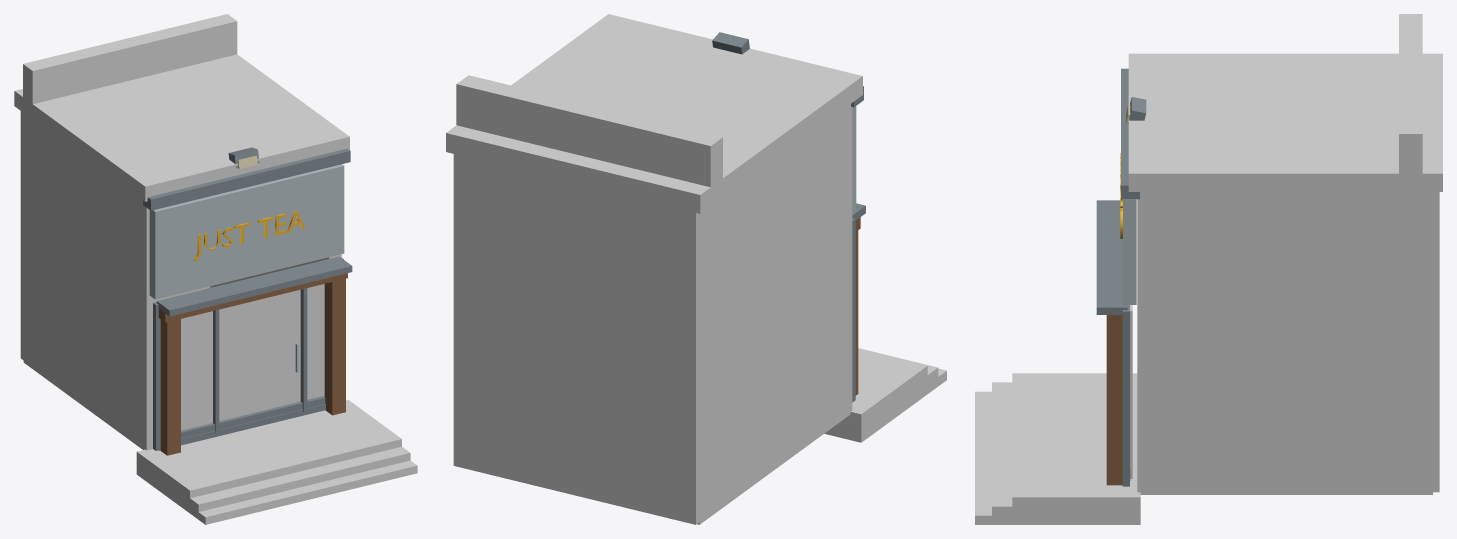
Rendered from Tea.fbx.
The picture shows the model from 3 angles, left to right: view 1: azimuth 30°, elevation 25°; view 2: azimuth 150°, elevation 25°; view 3: azimuth 270°, elevation 25°; orthographic projection. The views are drawn at different scales.
Visible parts, largest first — view 1: SA2_Tea_Mesh, SA2_Text_Tea; view 2: SA2_Tea_Mesh; view 3: SA2_Tea_Mesh.
Boxes of the visible parts, x1,y1,x2,y2 form: SA2_Tea_Mesh: [14, 14, 417, 524]; SA2_Text_Tea: [194, 210, 305, 261]; SA2_Tea_Mesh: [446, 14, 946, 524]; SA2_Tea_Mesh: [975, 14, 1442, 524].
Bounding box in the file's own units: 4.35 × 6.35 × 6.93.
